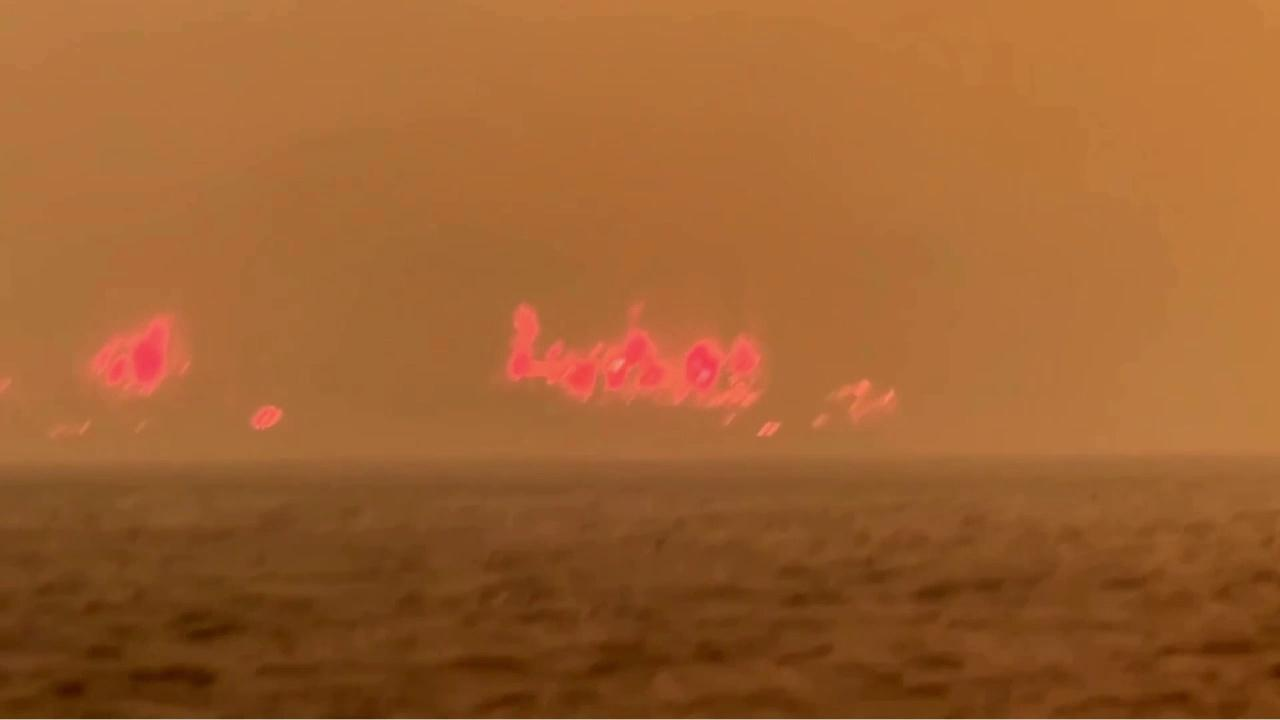fire: (504, 296, 767, 410), (86, 309, 193, 400), (812, 378, 899, 434), (248, 401, 284, 432), (752, 420, 783, 438)
smoke: (0, 0, 1280, 467)
